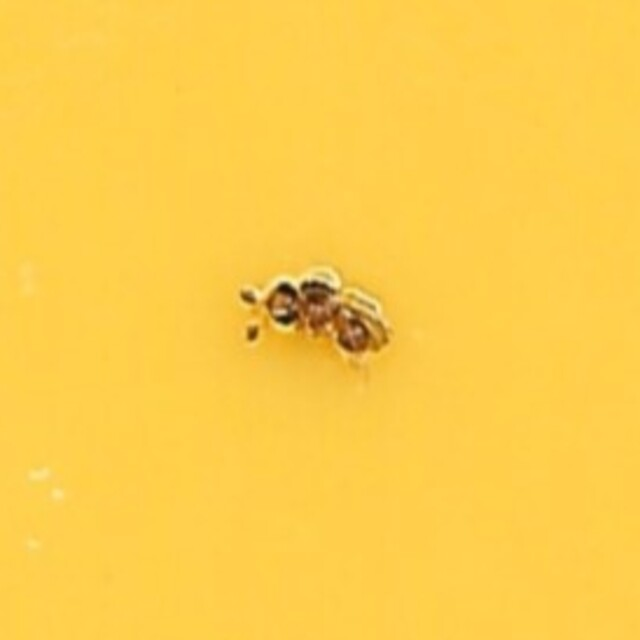Hymenoptera: (234, 266, 406, 374)
